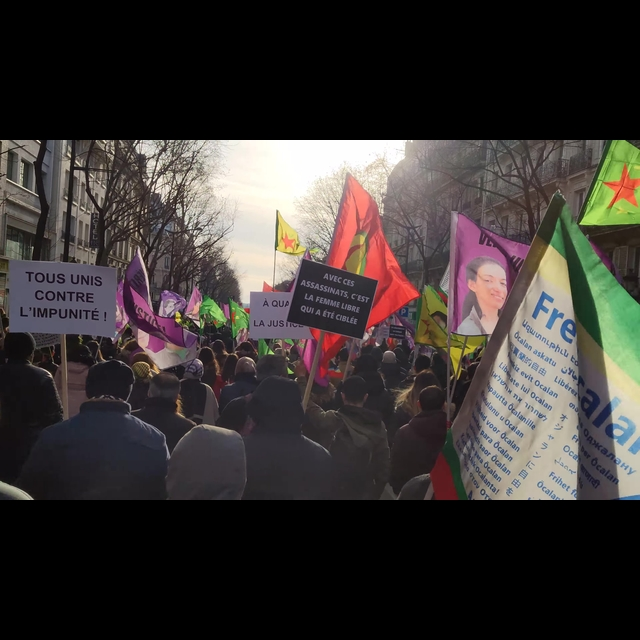YPG: (274, 212, 314, 257)
